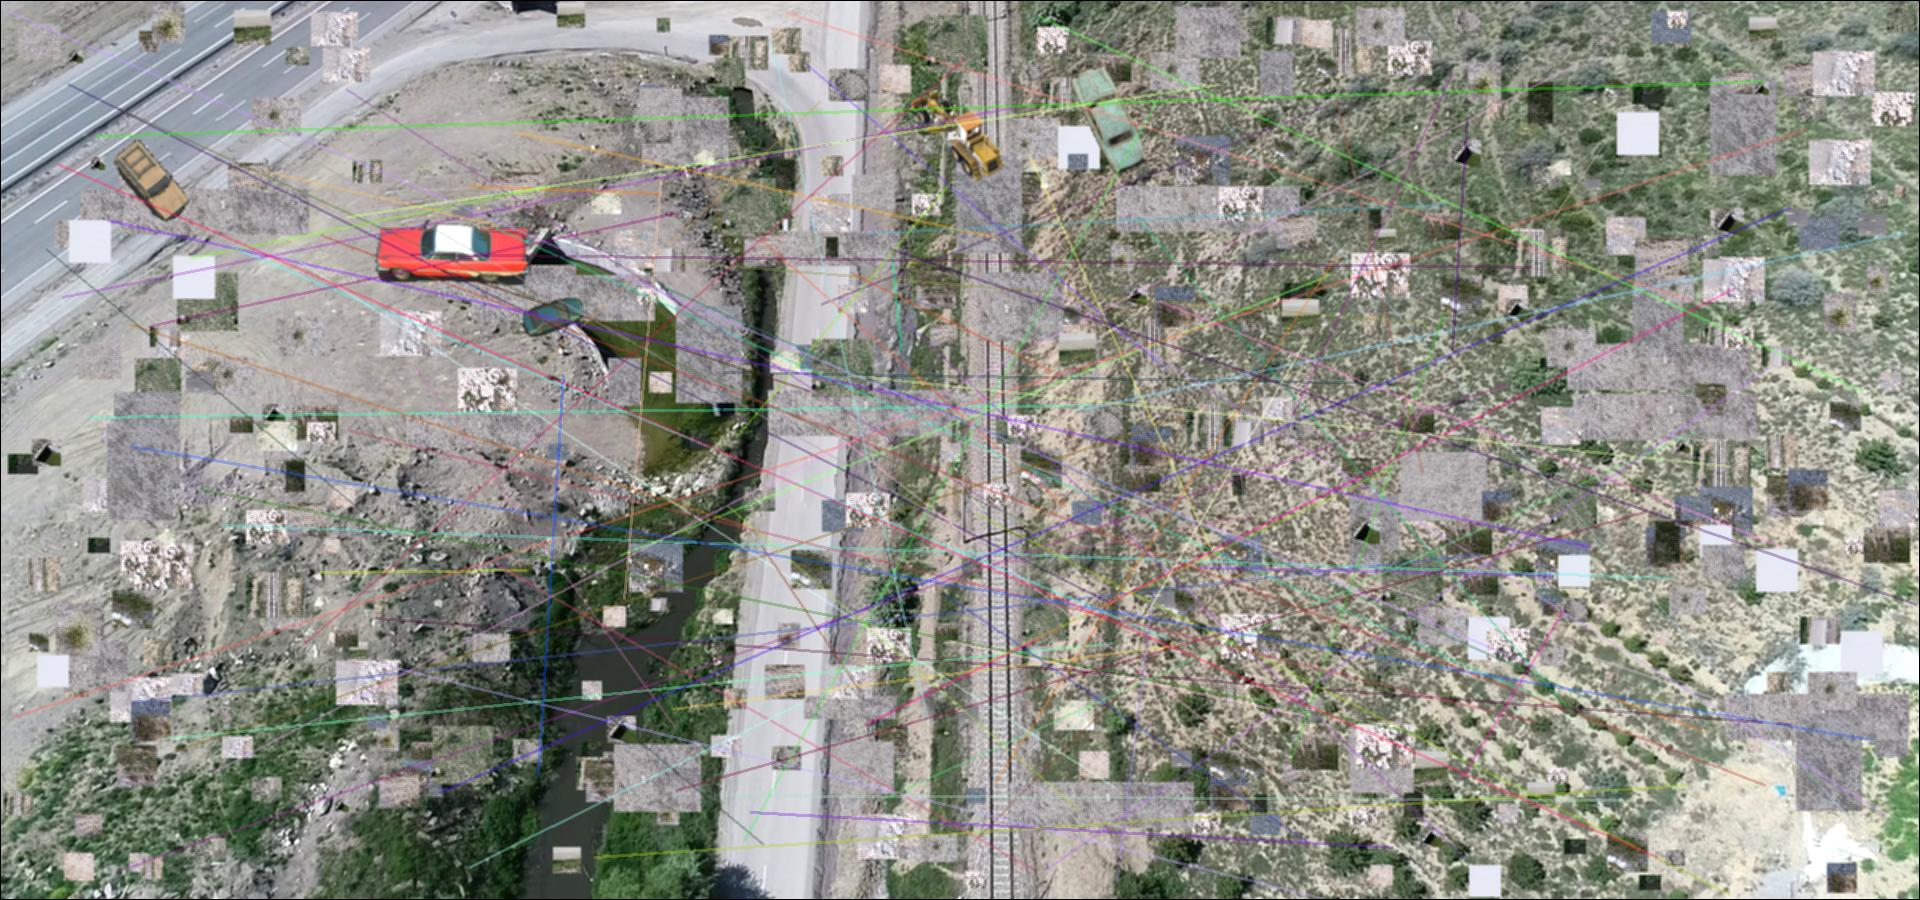arac: (1059, 54, 1160, 185), (370, 220, 549, 285), (909, 89, 1005, 184), (114, 136, 191, 223), (523, 296, 583, 337)
